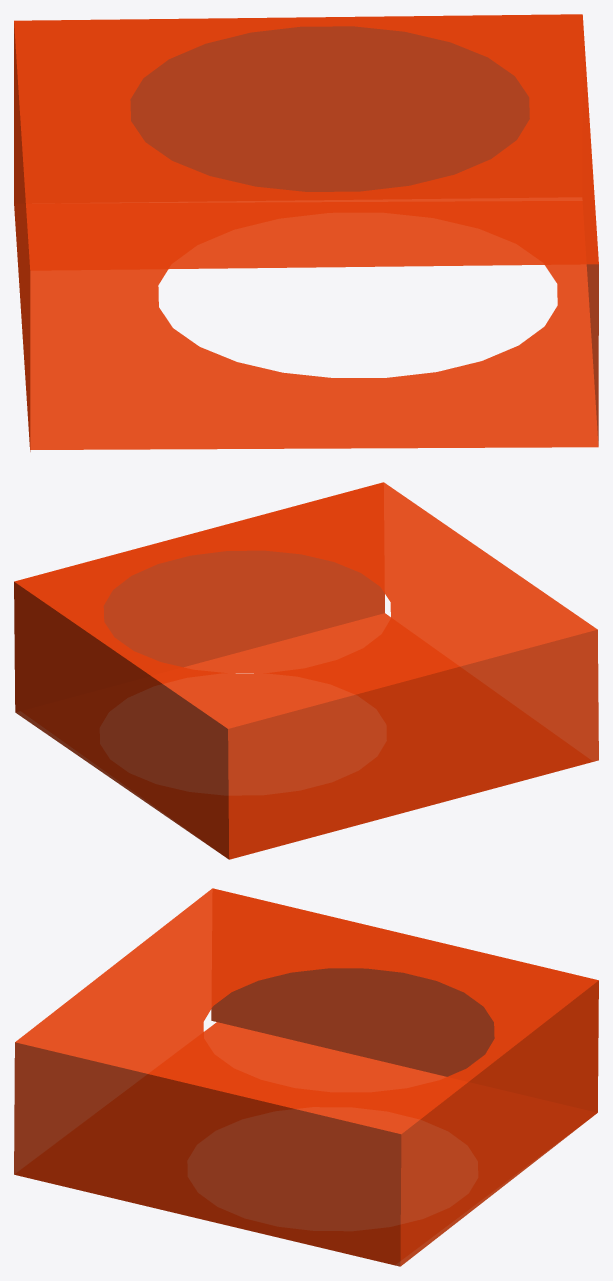
The model's file is original-5.obj.
3 views of the same model, one above another, from view 1: azimuth 30°, elevation 25°; view 2: azimuth 150°, elevation 25°; view 3: azimuth 270°, elevation 25° (orthographic). The views are drawn at different scales.
Visible parts, largest first — view 1: #ID5; view 2: #ID5; view 3: #ID5.
Part boxes in pixels (x1,y1,x2,y2): #ID5: (14,14,598,451); #ID5: (14,482,598,859); #ID5: (14,888,598,1266).
Size of the model in its own units: 0.0705 by 0.0184 by 0.0718.
